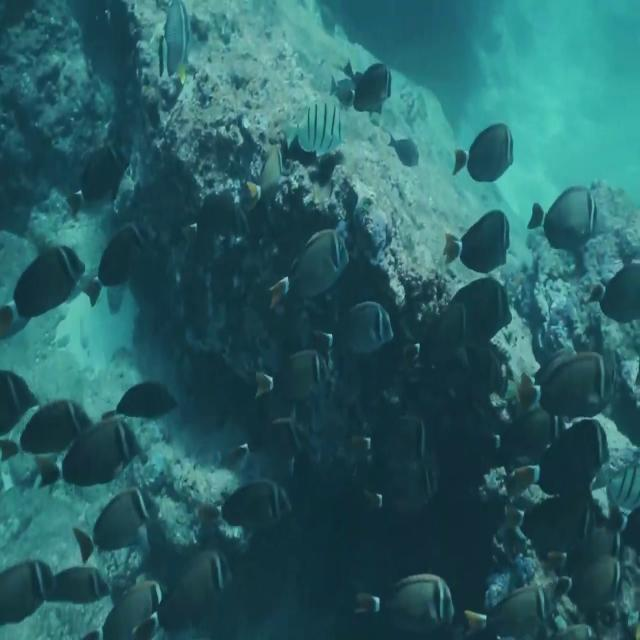fish: (0, 243, 88, 340), (73, 481, 162, 570), (264, 222, 354, 310), (39, 422, 141, 495), (81, 213, 144, 330), (350, 575, 459, 640), (460, 577, 566, 640), (526, 184, 613, 252), (258, 344, 336, 406), (438, 213, 511, 278), (448, 119, 515, 179), (284, 99, 349, 157), (336, 52, 393, 111)
